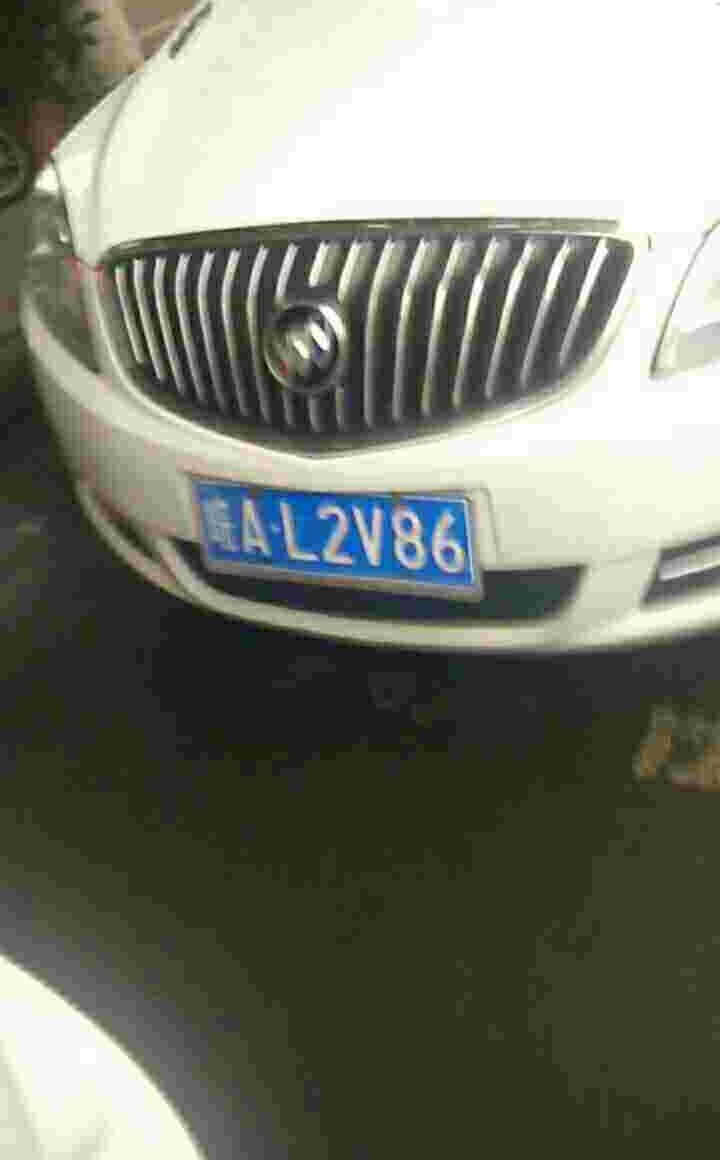license_plate: (188, 474, 480, 584)
